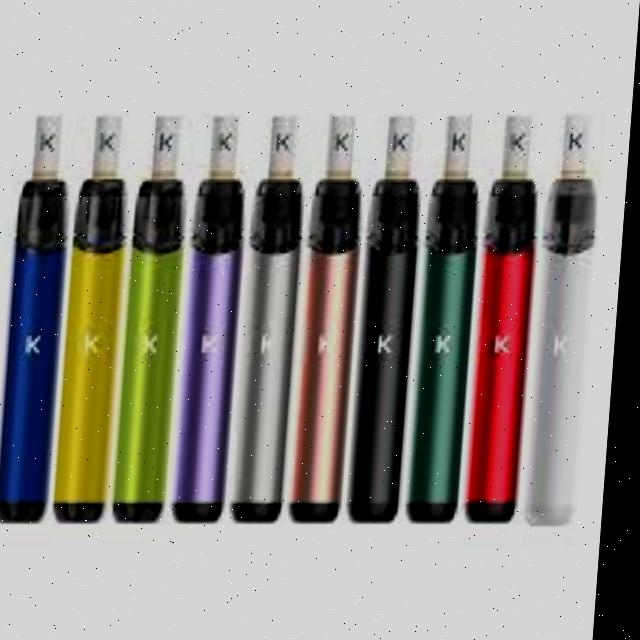vape: (291, 114, 371, 524), (56, 116, 136, 524), (530, 113, 607, 524), (236, 116, 313, 524), (354, 115, 431, 522), (119, 118, 195, 524), (413, 114, 488, 524), (2, 115, 77, 523), (179, 116, 254, 524), (474, 115, 547, 523)
